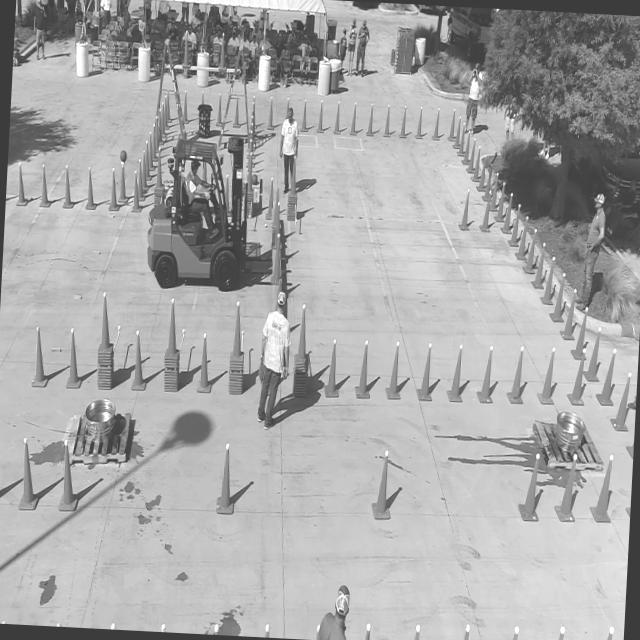driver: (183, 152, 220, 230)
forklift: (140, 141, 260, 294)
person: (256, 286, 290, 438), (582, 188, 608, 309), (276, 105, 300, 168), (29, 0, 49, 61), (466, 59, 481, 128), (355, 16, 370, 74)
